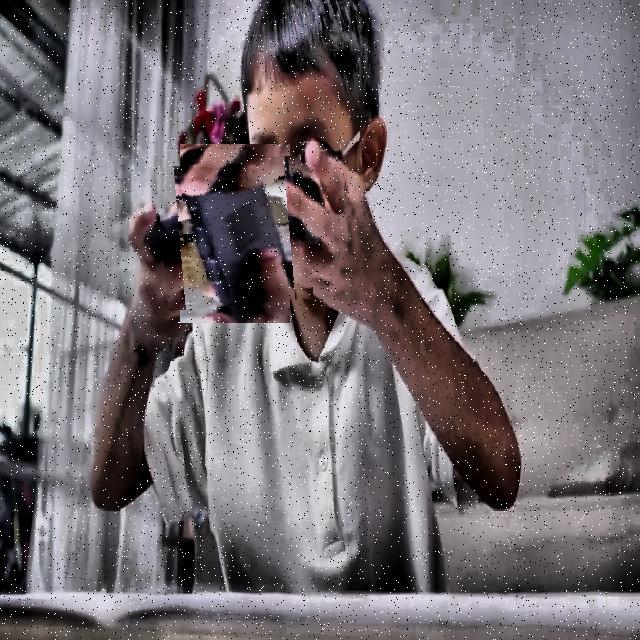Phone: (160, 158, 310, 308)
